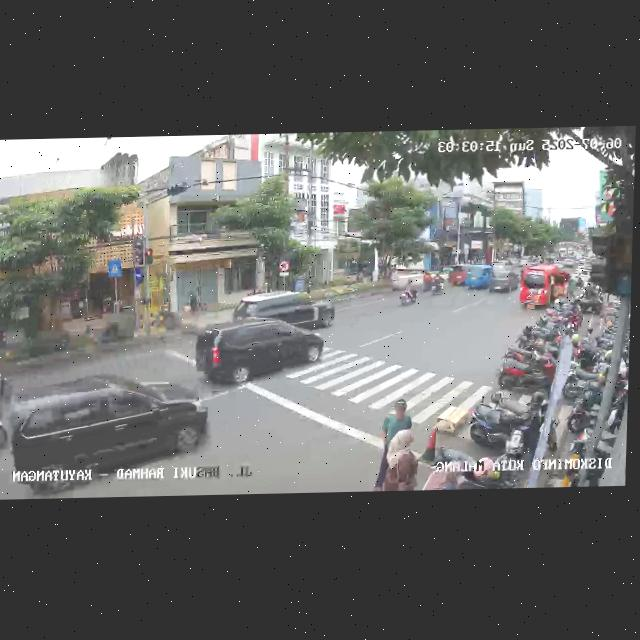car: (10, 374, 204, 490), (196, 318, 326, 390), (232, 287, 335, 334), (519, 264, 573, 312), (463, 262, 493, 294), (491, 266, 520, 295), (448, 264, 469, 287)
motorcycle: (0, 396, 10, 456), (398, 279, 418, 307), (429, 273, 445, 297)
person: (373, 397, 412, 491), (384, 428, 420, 491)
